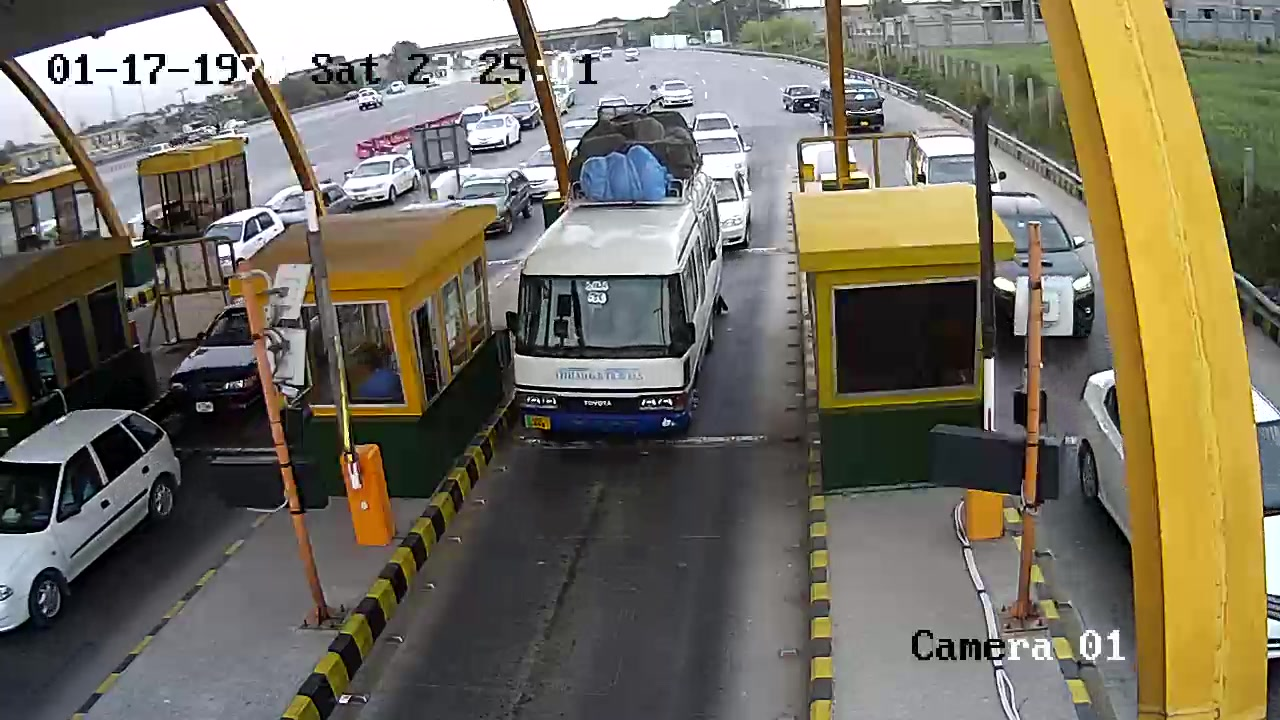F3: (504, 114, 724, 454)
